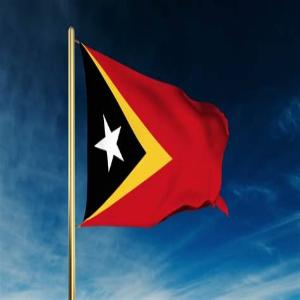Timor-Leste: (82, 46, 226, 227)
